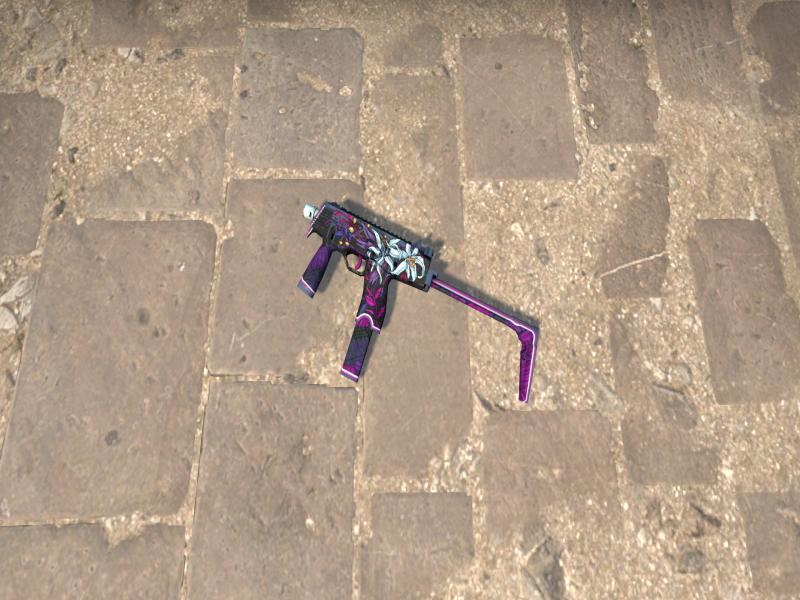MP9: (299, 201, 513, 381), (512, 321, 537, 398)
